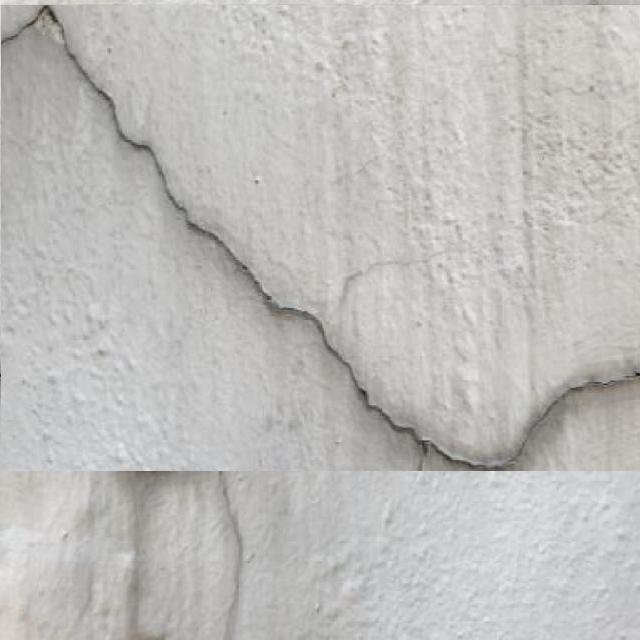diagonal crack: (1, 5, 640, 471)
